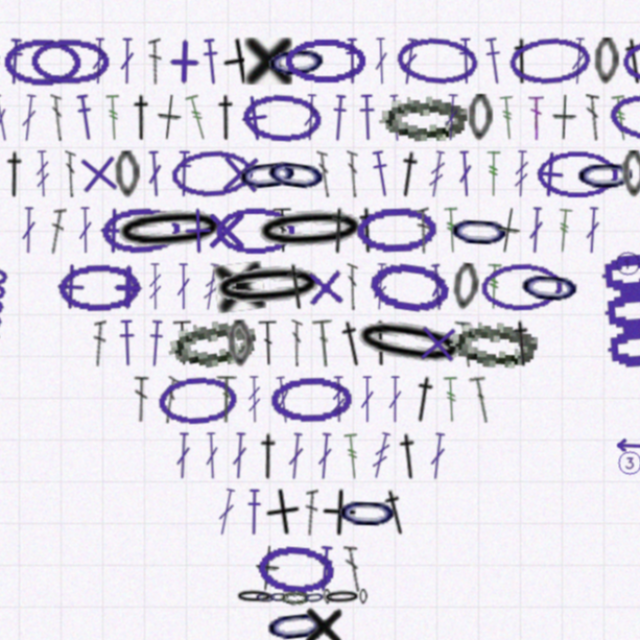chain: (355, 317, 473, 379), (221, 267, 337, 320), (127, 213, 243, 266), (262, 214, 377, 265), (180, 319, 270, 376), (373, 266, 454, 321), (400, 52, 482, 103), (508, 52, 590, 103), (452, 324, 537, 372), (385, 108, 470, 155), (172, 377, 251, 427), (185, 161, 265, 210), (267, 539, 345, 589), (253, 107, 332, 156), (118, 216, 197, 264), (482, 270, 562, 317), (362, 216, 440, 263), (280, 379, 359, 425), (77, 271, 156, 317), (272, 159, 340, 212), (536, 163, 615, 208), (51, 55, 128, 101), (294, 55, 372, 100), (25, 55, 101, 101), (228, 217, 304, 262), (245, 160, 312, 211), (516, 269, 582, 318), (273, 53, 339, 102), (272, 592, 339, 640), (449, 216, 514, 264), (342, 486, 406, 533), (571, 163, 634, 209), (604, 106, 640, 157), (0, 48, 25, 107), (0, 105, 27, 158), (454, 270, 482, 317), (239, 325, 265, 371), (131, 163, 157, 209), (470, 109, 494, 154), (591, 55, 615, 100), (617, 163, 640, 208), (618, 55, 640, 101), (331, 583, 368, 599), (247, 583, 284, 598), (290, 583, 318, 599), (312, 583, 334, 599), (266, 583, 287, 599), (279, 583, 300, 598), (331, 583, 340, 598), (366, 583, 374, 598), (292, 636, 314, 640), (307, 637, 333, 640), (317, 637, 343, 640)
double: (470, 378, 494, 425), (227, 486, 250, 533), (321, 325, 344, 371), (12, 109, 34, 155), (457, 325, 478, 371), (187, 325, 208, 370), (431, 433, 451, 479), (283, 379, 303, 425), (404, 55, 424, 101), (229, 379, 249, 424), (269, 325, 289, 370), (283, 217, 303, 262), (296, 433, 315, 479), (67, 217, 86, 263), (40, 109, 59, 155), (351, 541, 369, 587), (324, 433, 342, 479), (176, 379, 194, 425), (432, 271, 450, 317), (392, 109, 410, 155), (567, 55, 585, 100), (189, 433, 206, 478), (243, 433, 260, 478), (527, 217, 544, 262), (581, 217, 598, 262), (162, 163, 179, 208), (459, 163, 476, 208), (311, 109, 328, 154), (446, 109, 463, 154), (108, 55, 125, 100), (217, 433, 233, 478), (379, 55, 395, 100), (150, 379, 165, 424), (366, 379, 381, 424), (393, 379, 408, 424), (190, 271, 205, 316), (42, 217, 57, 262), (96, 217, 111, 262), (325, 163, 340, 208), (528, 109, 543, 154), (136, 55, 151, 100), (313, 487, 327, 532), (110, 325, 124, 370), (70, 109, 84, 154), (583, 109, 597, 154), (421, 217, 434, 262), (164, 55, 177, 100), (300, 325, 312, 370), (354, 163, 366, 208), (354, 271, 365, 316), (84, 163, 95, 208)
enseble_chain: (588, 258, 640, 382), (0, 273, 32, 367)
half_double: (384, 485, 418, 534), (411, 377, 445, 426), (343, 324, 376, 372), (397, 162, 430, 210), (291, 270, 321, 317), (399, 433, 428, 479), (332, 217, 361, 263), (0, 53, 27, 102), (265, 433, 293, 479), (508, 325, 536, 371), (22, 163, 50, 209), (144, 109, 171, 154), (225, 109, 252, 154), (615, 54, 640, 101), (374, 325, 400, 370), (361, 217, 387, 262), (509, 55, 535, 100), (375, 162, 399, 209), (483, 54, 507, 101), (92, 108, 115, 155), (214, 55, 235, 101), (323, 541, 343, 587), (161, 325, 181, 371), (337, 109, 357, 155), (26, 55, 46, 101), (134, 325, 153, 370), (364, 109, 383, 154), (189, 163, 207, 208), (459, 55, 477, 100), (257, 487, 274, 532), (351, 55, 368, 100)
noise: (612, 449, 639, 476), (610, 258, 636, 284), (610, 439, 640, 452), (0, 262, 21, 277), (0, 358, 13, 376)
single: (226, 269, 277, 319), (241, 107, 291, 157), (92, 161, 141, 210), (417, 324, 465, 372), (309, 270, 357, 318), (525, 162, 573, 210), (66, 270, 113, 317), (229, 162, 275, 209), (121, 271, 167, 317), (108, 217, 154, 263), (189, 217, 235, 263), (175, 55, 221, 101), (256, 55, 302, 100), (231, 53, 272, 103), (216, 217, 261, 262), (272, 485, 313, 534), (311, 595, 354, 640), (328, 487, 365, 533), (494, 216, 524, 264), (265, 540, 292, 587), (171, 108, 198, 155), (551, 109, 575, 154), (0, 163, 22, 208), (0, 109, 17, 154)
treble: (198, 108, 225, 155), (375, 432, 399, 479), (606, 109, 628, 155), (214, 271, 235, 317), (430, 163, 451, 209), (350, 433, 370, 479), (553, 217, 572, 263), (499, 109, 518, 155), (122, 109, 140, 154), (446, 379, 463, 424), (378, 271, 395, 316), (446, 217, 463, 262), (513, 163, 530, 208), (487, 271, 503, 316), (55, 163, 71, 208), (258, 379, 273, 424), (339, 379, 354, 424), (163, 271, 178, 316), (487, 163, 502, 208)
